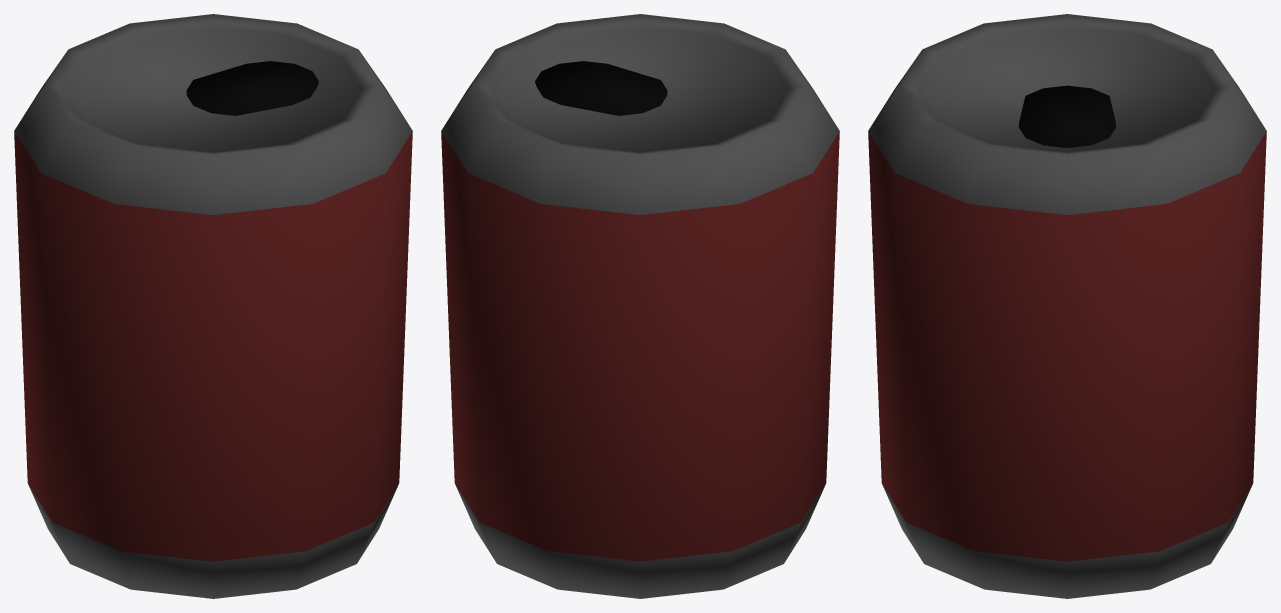
File: Trash_Can.fbx
The picture shows the model from 3 angles, left to right: view 1: azimuth 30°, elevation 25°; view 2: azimuth 150°, elevation 25°; view 3: azimuth 270°, elevation 25°; orthographic projection.
Parts seen in each view (by area): view 1: Can; view 2: Can; view 3: Can.
Boxes of the visible parts, bbox=[...] form: Can: bbox=[14, 14, 412, 598]; Can: bbox=[441, 14, 839, 598]; Can: bbox=[868, 14, 1266, 598].
Size of the model in its own units: 79.92 by 98.24 by 79.92.
